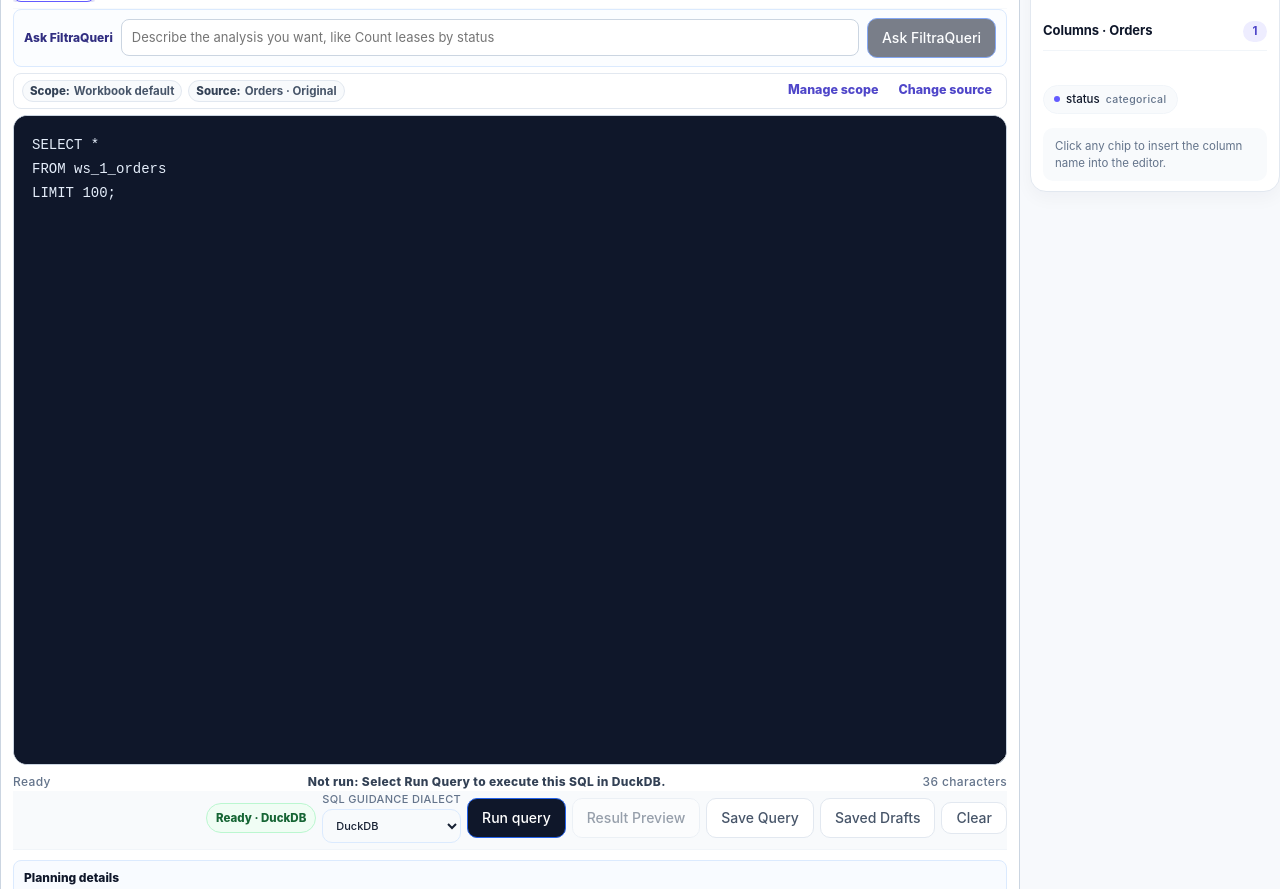
Test: SQL execution truthfulness UI › shows not run before execution and running after explicit Run
(page scrolled)
Check: the text named "SQL execution status" shows "Not run", box left=308, top=774, right=354, bottom=789
Check: the text named "SQL execution status" shows "Select Run Query to execute this SQL in DuckDB.", box left=362, top=774, right=666, bottom=789
Replace the text in the text box named "SQL query text" with "SELECT status FROM ws_1_orders;" at point(510, 440), box left=14, top=116, right=1006, bottom=764
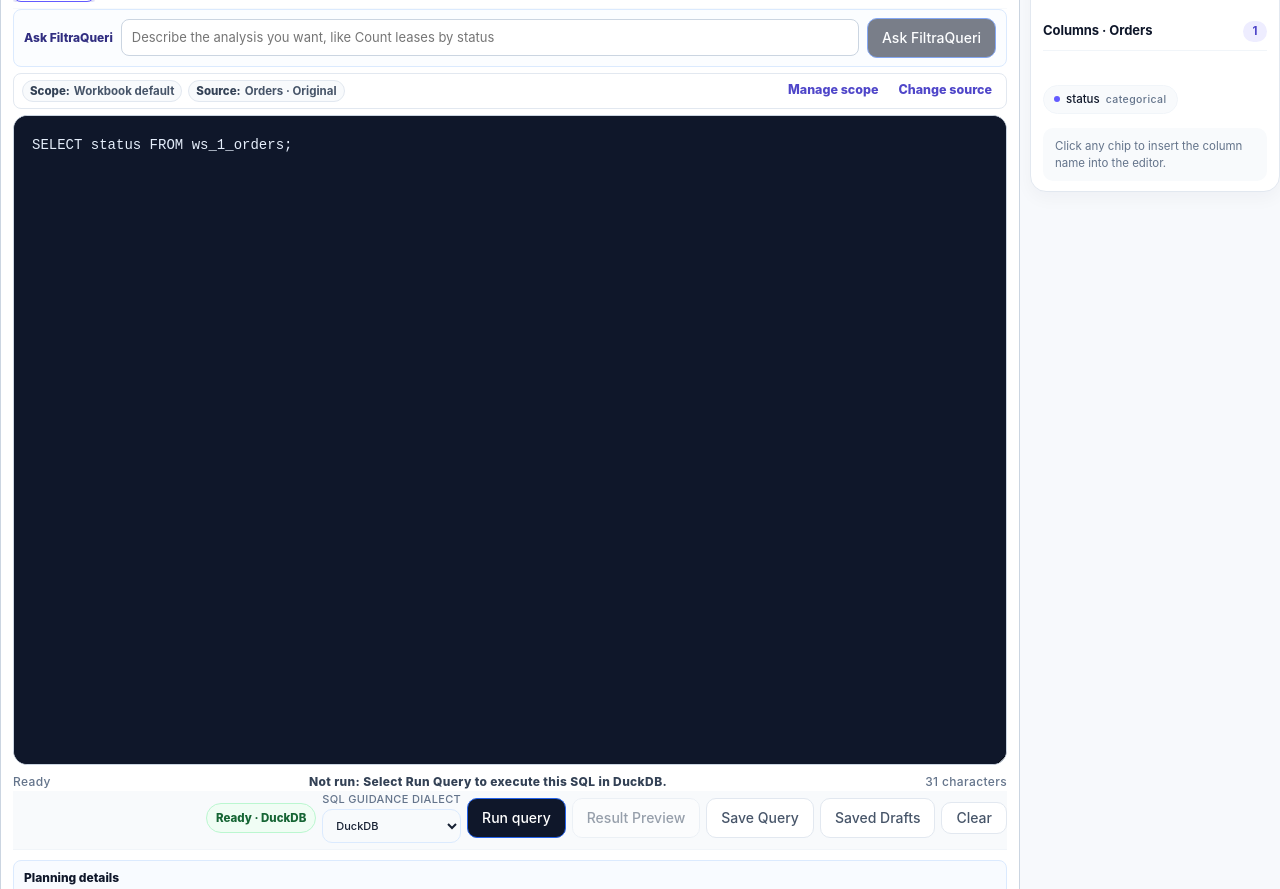
Click the button "Run query" at point(516, 818), box left=467, top=798, right=566, bottom=838
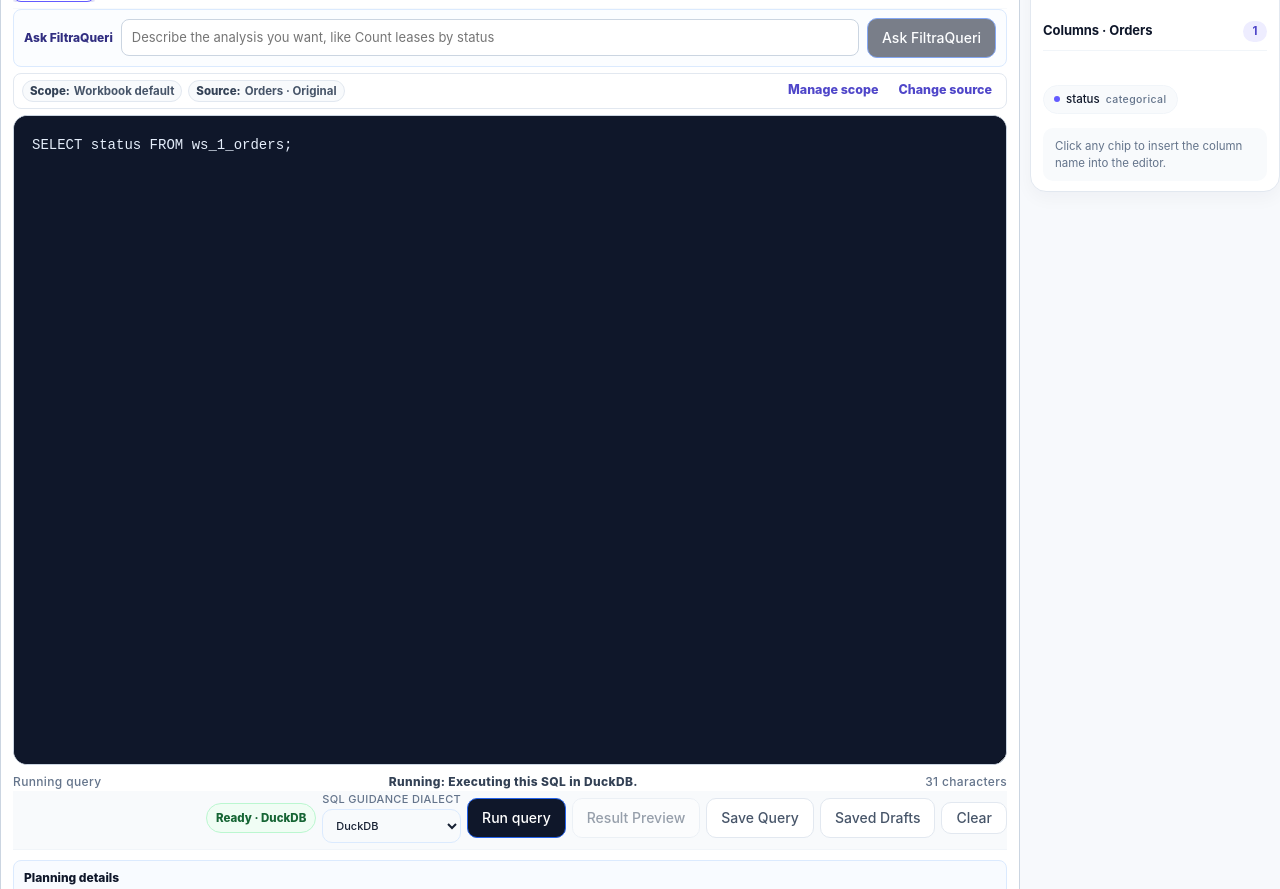
Check: the text named "SQL execution status" shows "Running", box left=389, top=774, right=441, bottom=789
Check: the text named "SQL execution status" shows "Executing this SQL in DuckDB.", box left=448, top=774, right=638, bottom=789
